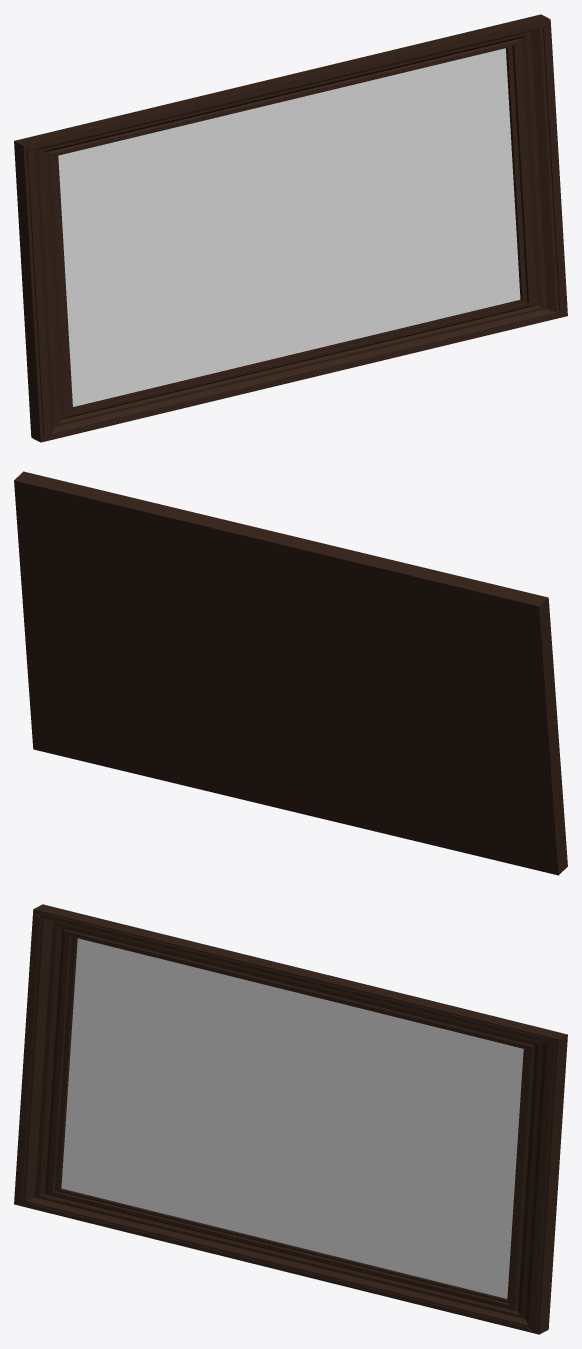
Rendered from Specchio.fbx.
3 renders of one model, top to bottom at view 1: azimuth 30°, elevation 25°; view 2: azimuth 150°, elevation 25°; view 3: azimuth 330°, elevation 25°, orthographic.
Visible parts, largest first — view 1: Paint 5.003, Paint 5.001; view 2: Paint 5.001; view 3: Paint 5.003, Paint 5.001.
Boxes of the visible parts, x1,y1,x2,y2 form: Paint 5.003: [58, 48, 520, 406]; Paint 5.001: [14, 14, 567, 442]; Paint 5.001: [14, 471, 567, 875]; Paint 5.003: [61, 938, 523, 1298]; Paint 5.001: [14, 904, 567, 1334].
Size of the model in its own units: 569 by 295 by 53.31.
